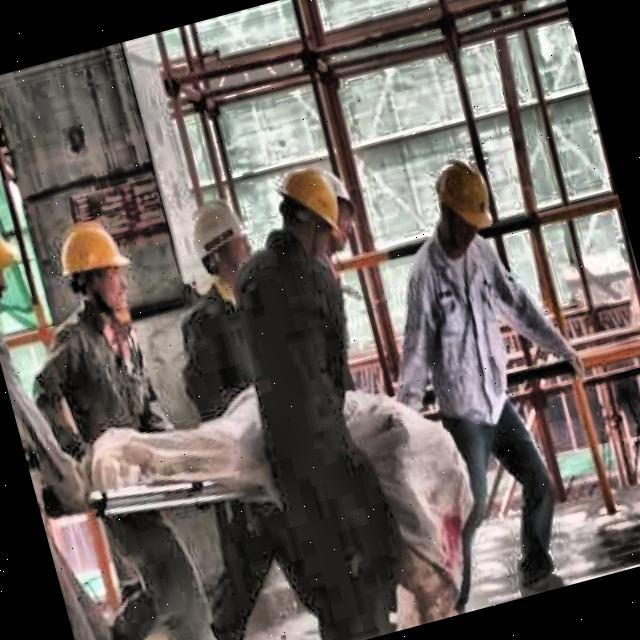helmet: (42, 204, 150, 334), (416, 140, 504, 256), (266, 156, 348, 266), (178, 188, 259, 294), (0, 175, 35, 313), (321, 166, 364, 250)
